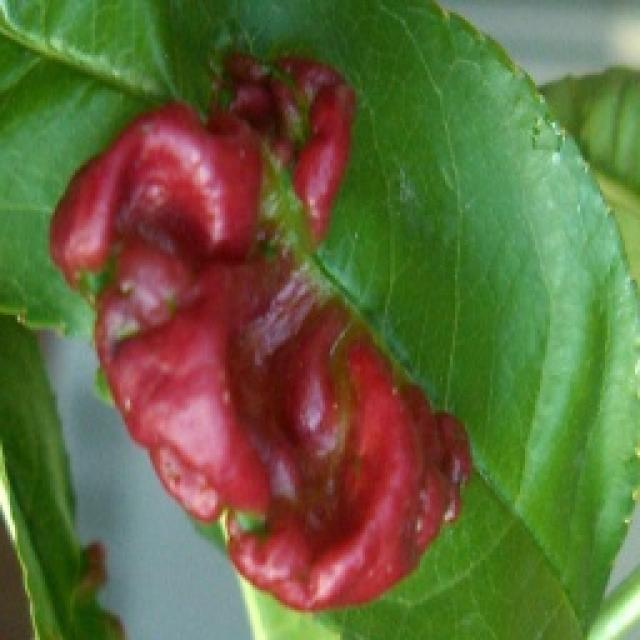peach_leaf_curl: (45, 45, 475, 613)
